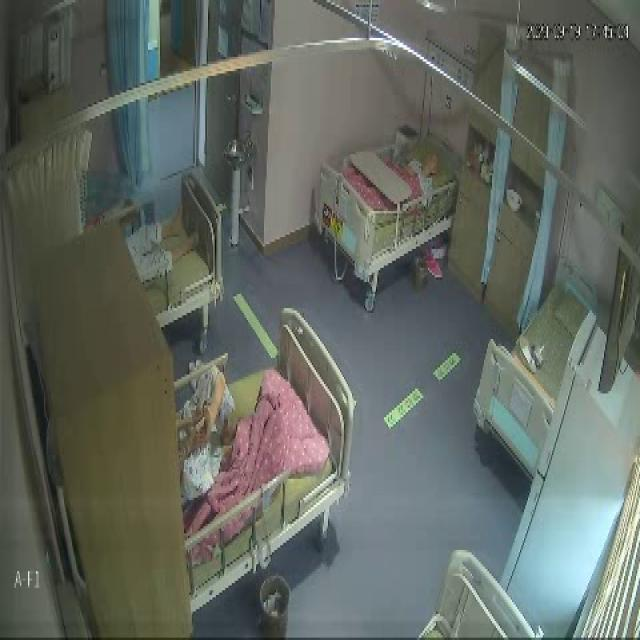bed: (174, 315, 350, 580), (315, 118, 458, 269), (483, 260, 590, 440), (125, 168, 224, 318)
lie: (176, 366, 239, 504), (128, 210, 199, 280)
patient: (176, 366, 238, 504), (128, 209, 198, 281), (402, 143, 442, 197)
